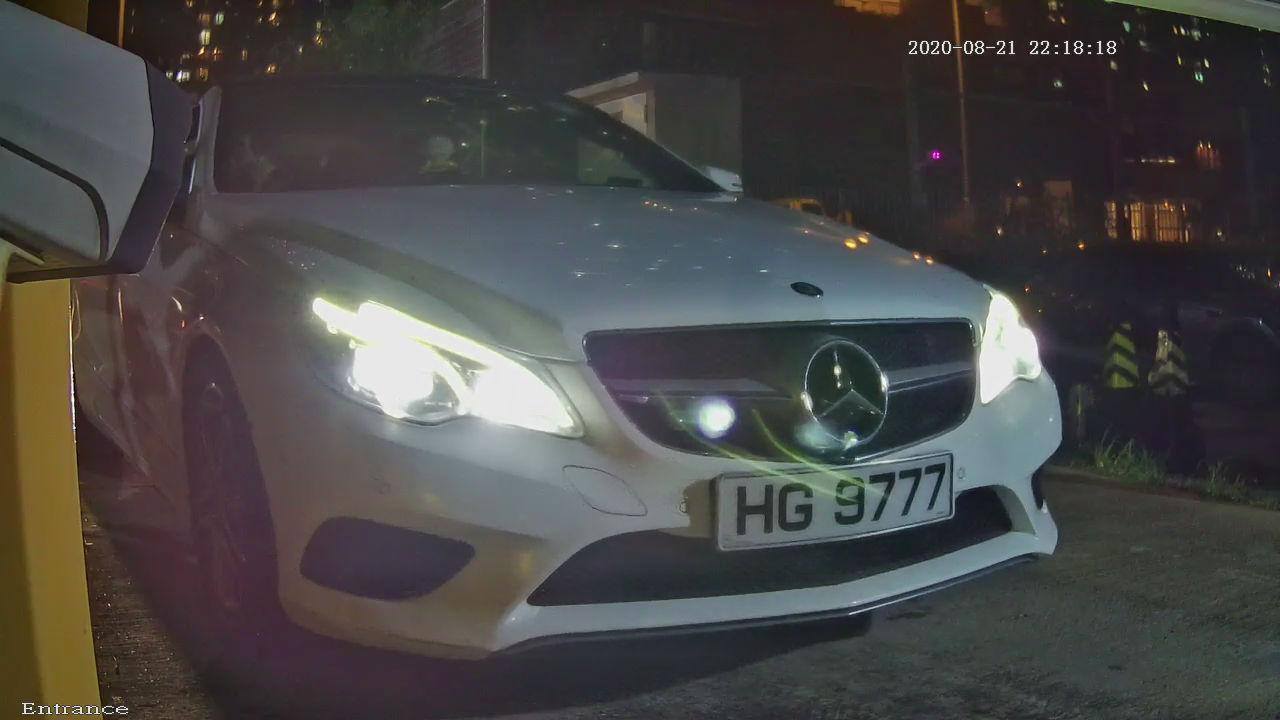Car: (52, 10, 1172, 708)
License Plate: (674, 432, 983, 594)
